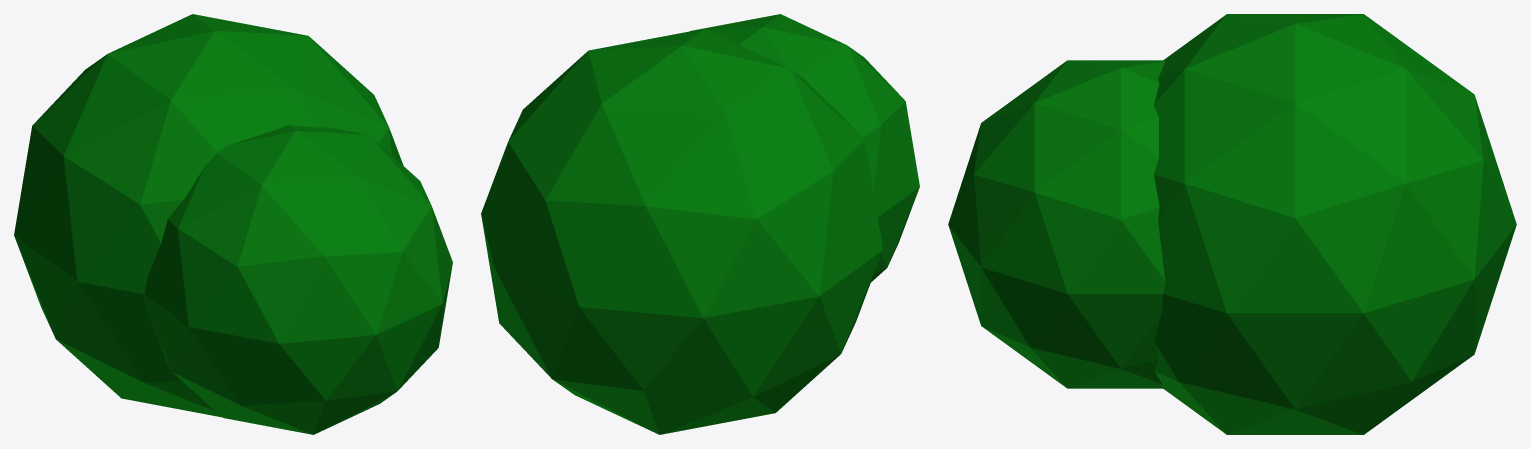
File: Seto1.fbx
3 views of the same model, side by side, from view 1: azimuth 30°, elevation 25°; view 2: azimuth 150°, elevation 25°; view 3: azimuth 270°, elevation 25° (orthographic). The views are drawn at different scales.
Visible parts, largest first — view 1: Icosphere.016, Icosphere.018; view 2: Icosphere.018, Icosphere.016; view 3: Icosphere.018, Icosphere.016.
Part boxes in pixels (<box>): Icosphere.016: <box>144,125,452,434</box>; Icosphere.018: <box>14,14,403,417</box>; Icosphere.018: <box>481,28,882,434</box>; Icosphere.016: <box>690,14,919,282</box>; Icosphere.018: <box>1154,14,1516,434</box>; Icosphere.016: <box>948,60,1165,388</box>.
Bounding box in the file's own units: 131 × 138 × 177.
